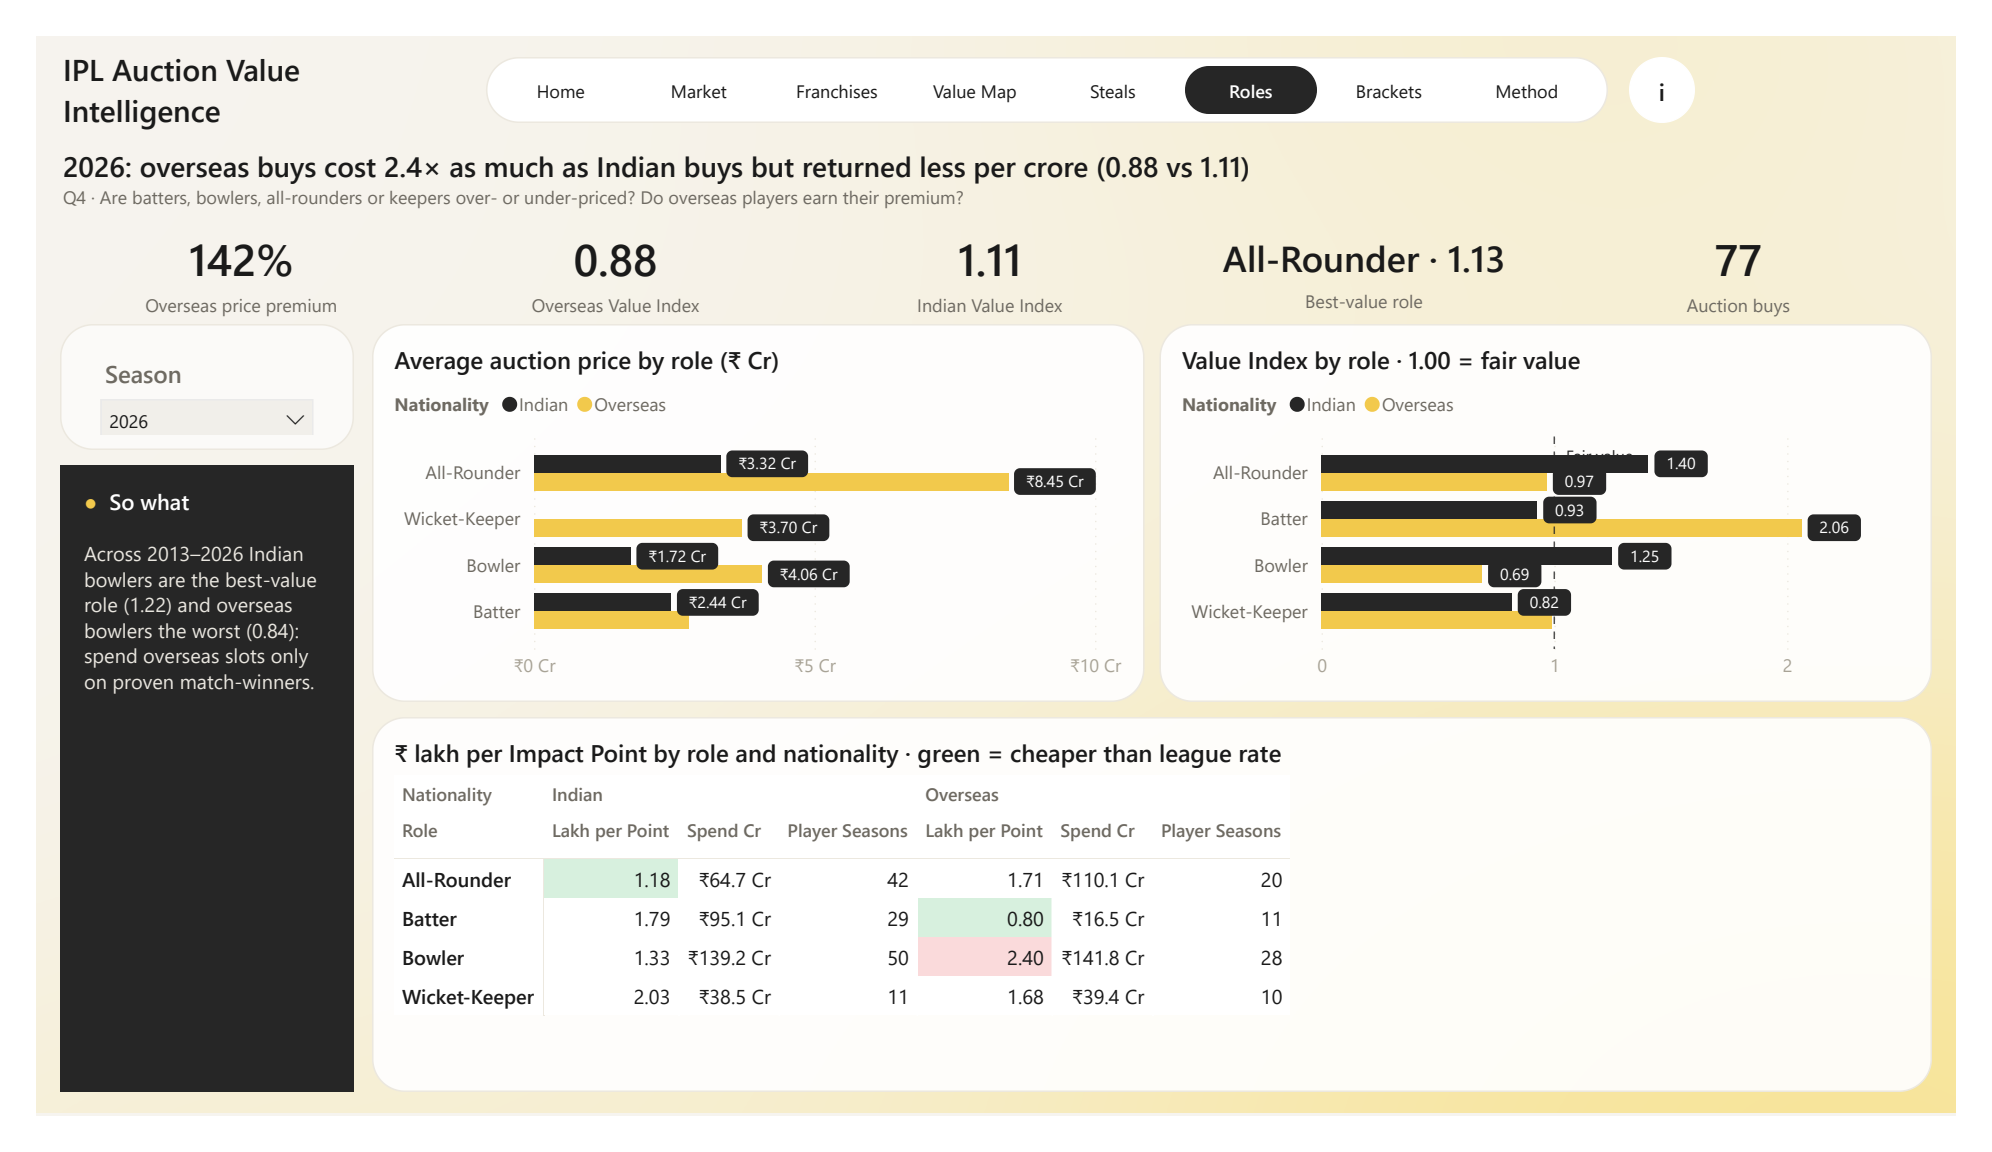

Layout of this report page (visuals, bound fields, positions):
{"tool":"powerbi","page":{"name":"5 Role and Nationality","canvas":[1280,720],"ordinal":5},"visuals":[{"type":"textbox","box":[16,8,270,66],"z":1000},{"type":"textbox","box":[300,14,748,44],"z":2000},{"type":"actionButton","title":"Home","box":[306,20,88,32],"z":3000},{"type":"actionButton","title":"Market","box":[398,20,88,32],"z":4000},{"type":"actionButton","title":"Franchises","box":[490,20,88,32],"z":5000},{"type":"actionButton","title":"Value Map","box":[582,20,88,32],"z":6000},{"type":"actionButton","title":"Steals","box":[674,20,88,32],"z":7000},{"type":"actionButton","title":"Roles","box":[766,20,88,32],"z":8000},{"type":"actionButton","title":"Brackets","box":[858,20,88,32],"z":9000},{"type":"actionButton","title":"Method","box":[950,20,88,32],"z":10000},{"type":"actionButton","title":"i","box":[1062,14,44,44],"z":11000},{"type":"textbox","box":[16,74,1248,50],"z":12000},{"type":"card","fields":{"Values":["_Measures.Overseas Price Premium %"]},"box":[16,126,241.6,62],"z":13000},{"type":"card","fields":{"Values":["_Measures.Overseas Value Index"]},"box":[265.6,126,241.6,62],"z":14000},{"type":"card","fields":{"Values":["_Measures.Indian Value Index"]},"box":[515.2,126,241.6,62],"z":15000},{"type":"card","fields":{"Values":["_Measures.Best Role Label"]},"box":[764.8,126,241.6,62],"z":16000},{"type":"card","fields":{"Values":["_Measures.Players Bought"]},"box":[1014.4,126,241.6,62],"z":17000},{"type":"textbox","box":[16,192,196,84],"z":18000},{"type":"slicer","fields":{"Values":["DimSeason.Season"]},"box":[24,202,180,64],"z":19000},{"type":"textbox","box":[16,286,196,418],"z":20000},{"type":"clusteredBarChart","title":"Average auction price by role (₹ Cr)","fields":{"Category":["DimPlayer.Role"],"Series":["DimPlayer.Nationality"],"Y":["_Measures.Avg Auction Price Cr"]},"box":[224,192,515,252],"z":21000},{"type":"clusteredBarChart","title":"Value Index by role · 1.00 = fair value","fields":{"Category":["DimPlayer.Role"],"Series":["DimPlayer.Nationality"],"Y":["_Measures.Value Index"]},"box":[749,192,515,252],"z":22000},{"type":"pivotTable","title":"₹ lakh per Impact Point by role and nationality · green = cheaper than league rate","fields":{"Columns":["DimPlayer.Nationality"],"Rows":["DimPlayer.Role"],"Values":["_Measures.Lakh per Point","_Measures.Spend Cr","_Measures.Player Seasons"]},"box":[224,454,1040,250],"z":23000}]}

Visuals, with their boxes in screenshot pixels (x1, y1, x2, y2), scaled from the page's 1280x720 canvas onto the 1992x1152 screenshot:
textbox: 25,13,445,118
textbox: 467,22,1631,93
"Home" actionButton: 476,32,613,83
"Market" actionButton: 619,32,756,83
"Franchises" actionButton: 763,32,900,83
"Value Map" actionButton: 906,32,1043,83
"Steals" actionButton: 1049,32,1186,83
"Roles" actionButton: 1192,32,1329,83
"Brackets" actionButton: 1335,32,1472,83
"Method" actionButton: 1478,32,1615,83
"i" actionButton: 1653,22,1721,93
textbox: 25,118,1967,198
card - _Measures.Overseas Price Premium %: 25,202,401,301
card - _Measures.Overseas Value Index: 413,202,789,301
card - _Measures.Indian Value Index: 802,202,1178,301
card - _Measures.Best Role Label: 1190,202,1566,301
card - _Measures.Players Bought: 1579,202,1955,301
textbox: 25,307,330,442
slicer - DimSeason.Season: 37,323,317,426
textbox: 25,458,330,1126
"Average auction price by role (₹ Cr)" clusteredBarChart: 349,307,1150,710
"Value Index by role · 1.00 = fair value" clusteredBarChart: 1166,307,1967,710
"₹ lakh per Impact Point by role and nationality · green = cheaper than league rate" pivotTable: 349,726,1967,1126
